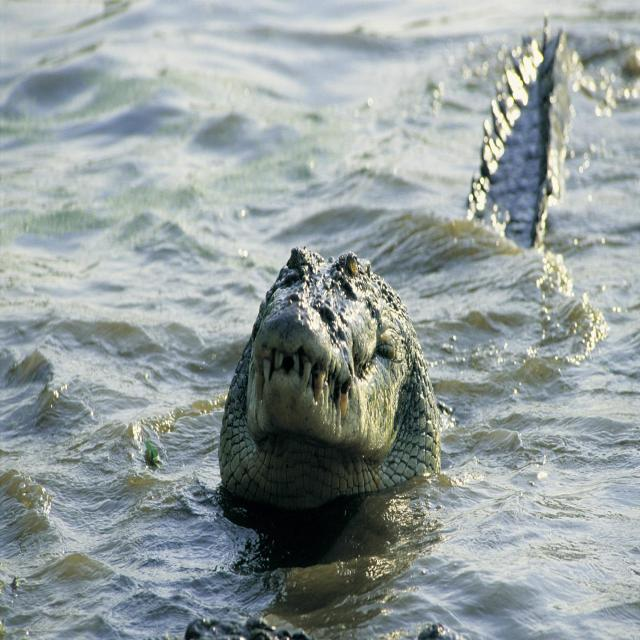crocodile: (190, 0, 607, 570)
